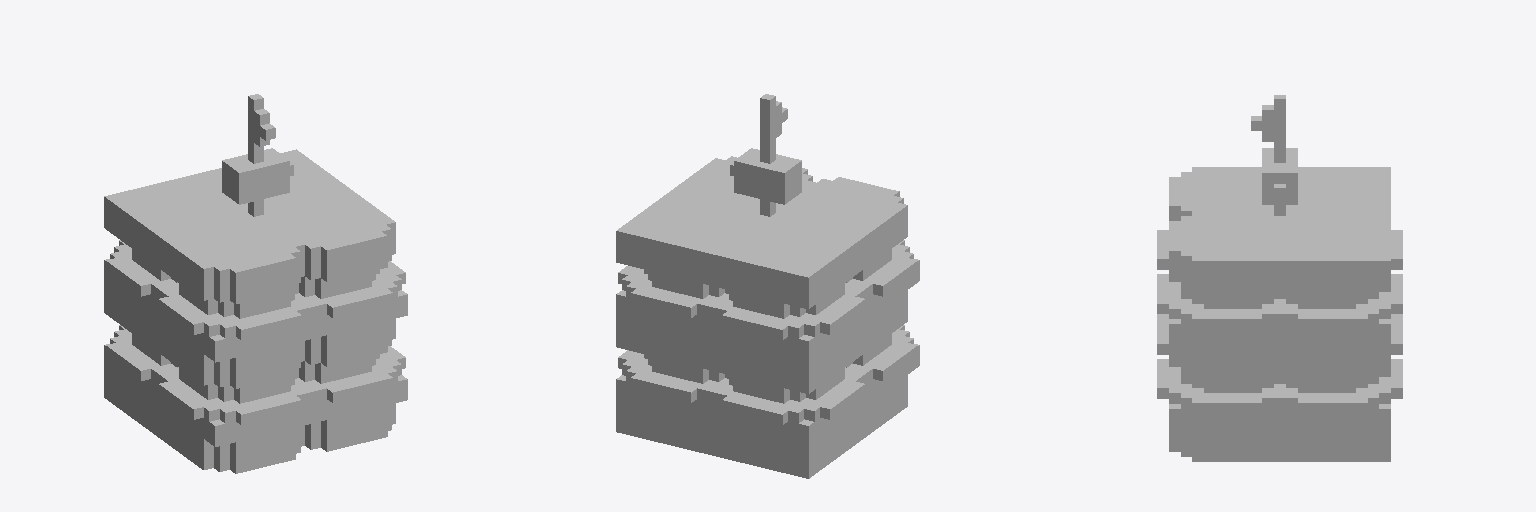
Rendered from Sandwich.obj.
3 views of the same model, side by side, from view 1: azimuth 30°, elevation 25°; view 2: azimuth 150°, elevation 25°; view 3: azimuth 270°, elevation 25° (orthographic).
Visible parts, largest first — view 1: object 1; view 2: object 1; view 3: object 1.
Part boxes in pixels (left/top/right/bottom): object 1: left=104, top=94, right=407, bottom=473; object 1: left=616, top=94, right=919, bottom=478; object 1: left=1157, top=95, right=1402, bottom=461.
Bounding box in the file's own units: 2.1 × 3 × 2.1.